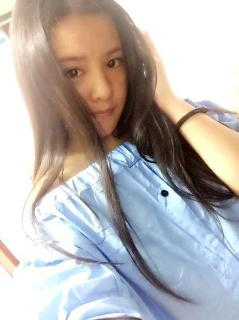long sleeve dress: (20, 98, 239, 319)
